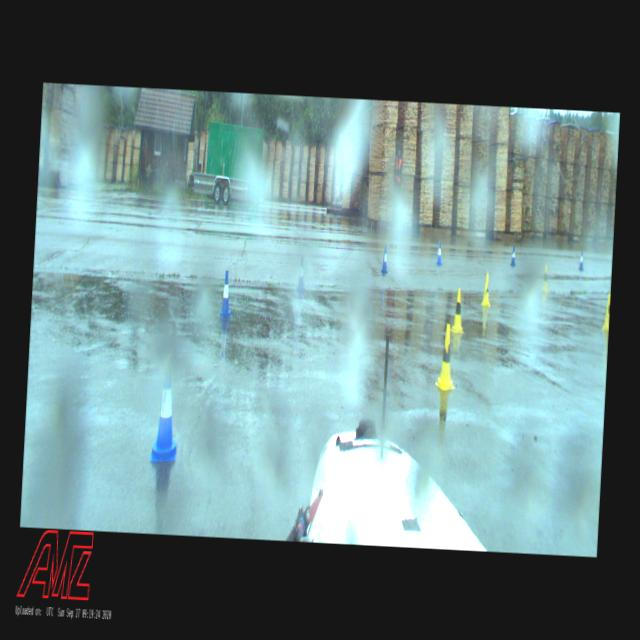blue_cone: (150, 374, 180, 462), (219, 271, 234, 319), (296, 256, 306, 292), (381, 246, 389, 274), (436, 241, 443, 264), (510, 245, 516, 266), (579, 250, 584, 270)
yellow_cone: (436, 324, 458, 389), (451, 290, 466, 333), (481, 274, 493, 306), (602, 296, 610, 330), (542, 264, 548, 290)
